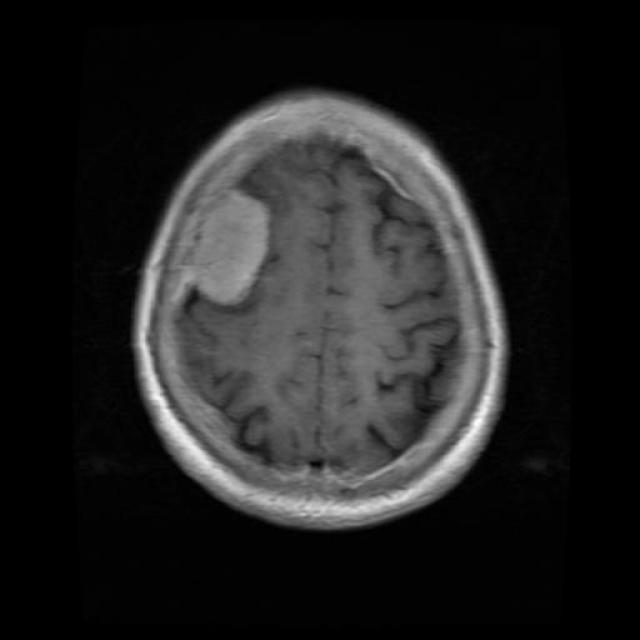Brain-Tumor: (178, 180, 282, 318)
